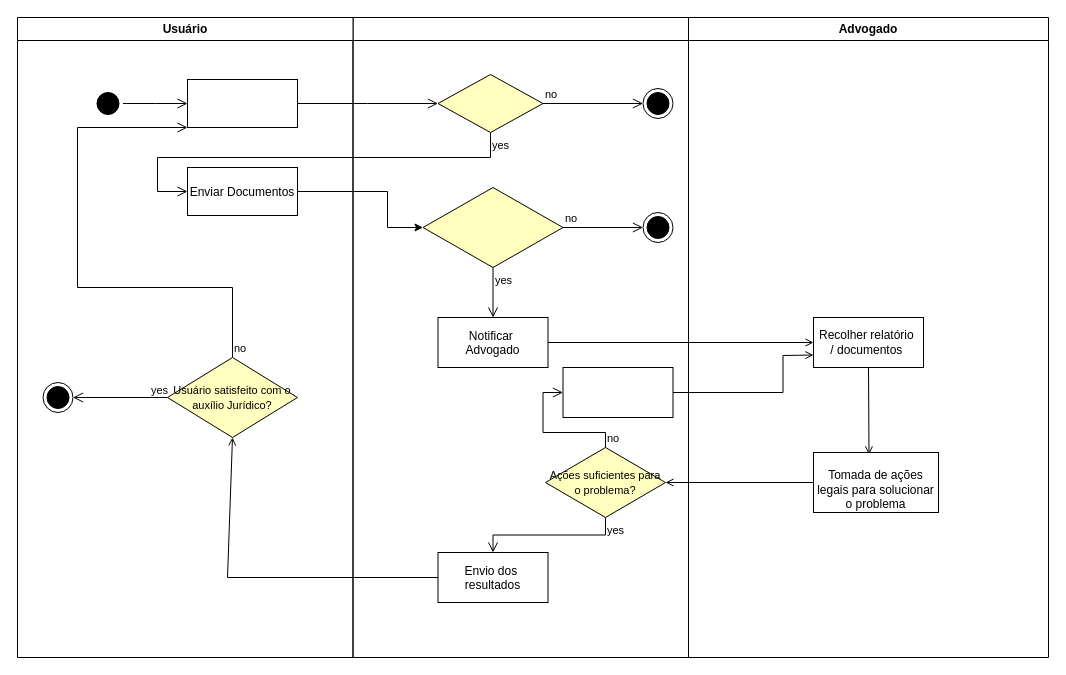
Some shapes in this 1066 by 675 pixel diagram are drawn without their labels. The box of each missing label's shape, as (x1, y1, x2, y2) in pixels:
Administrador: (352, 16, 688, 658)
Documentos mínimos para a análise?: (422, 186, 563, 268)
Notificar outro Advogado: (562, 366, 673, 418)
Pedir auxílio Jurídico: (186, 78, 298, 128)
Problema Válido?: (437, 74, 543, 132)
